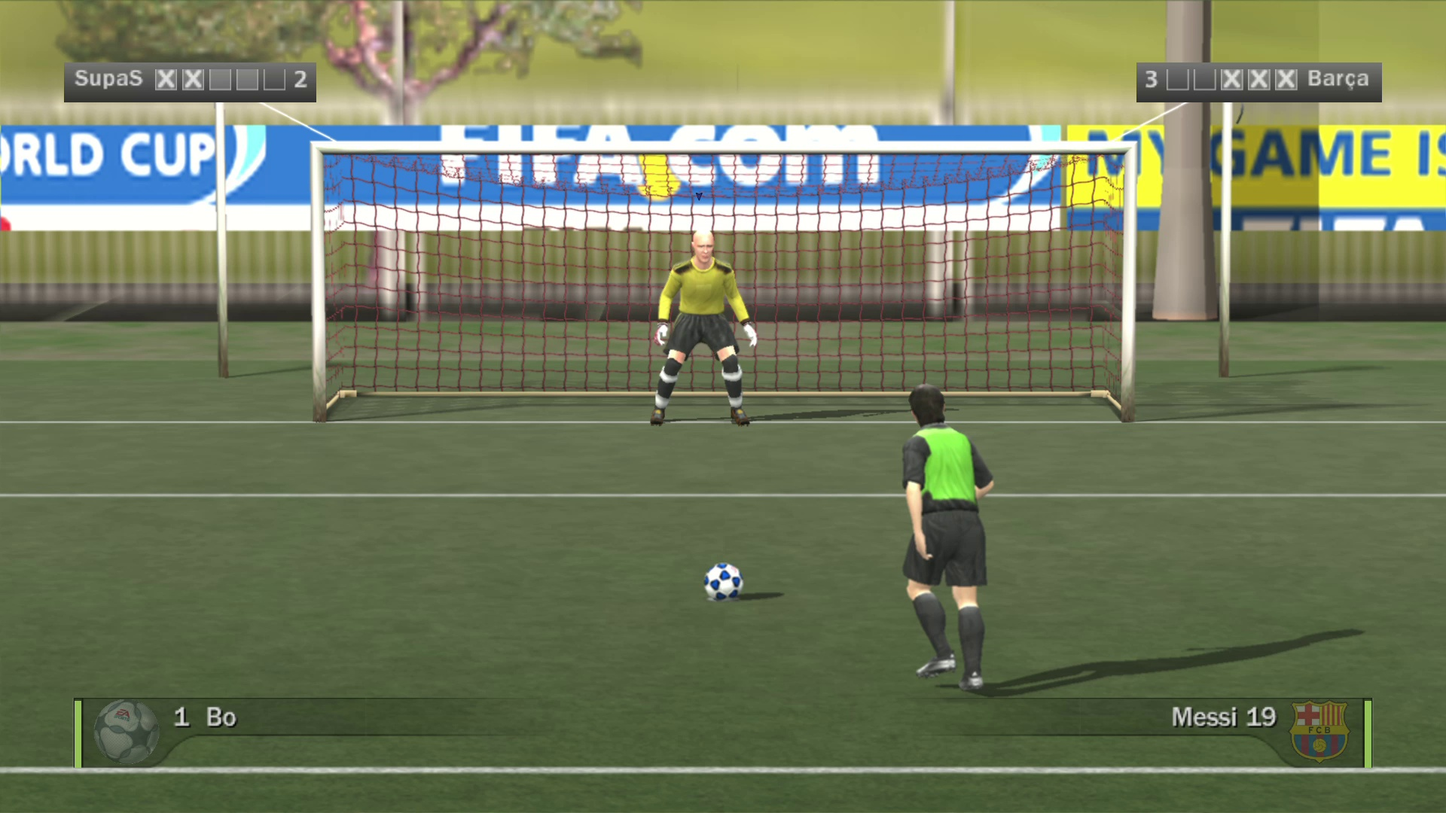ball: (671, 543, 721, 581)
goal_post: (0, 27, 722, 281)
keeper: (585, 122, 701, 325)
kicker: (843, 233, 947, 537)
